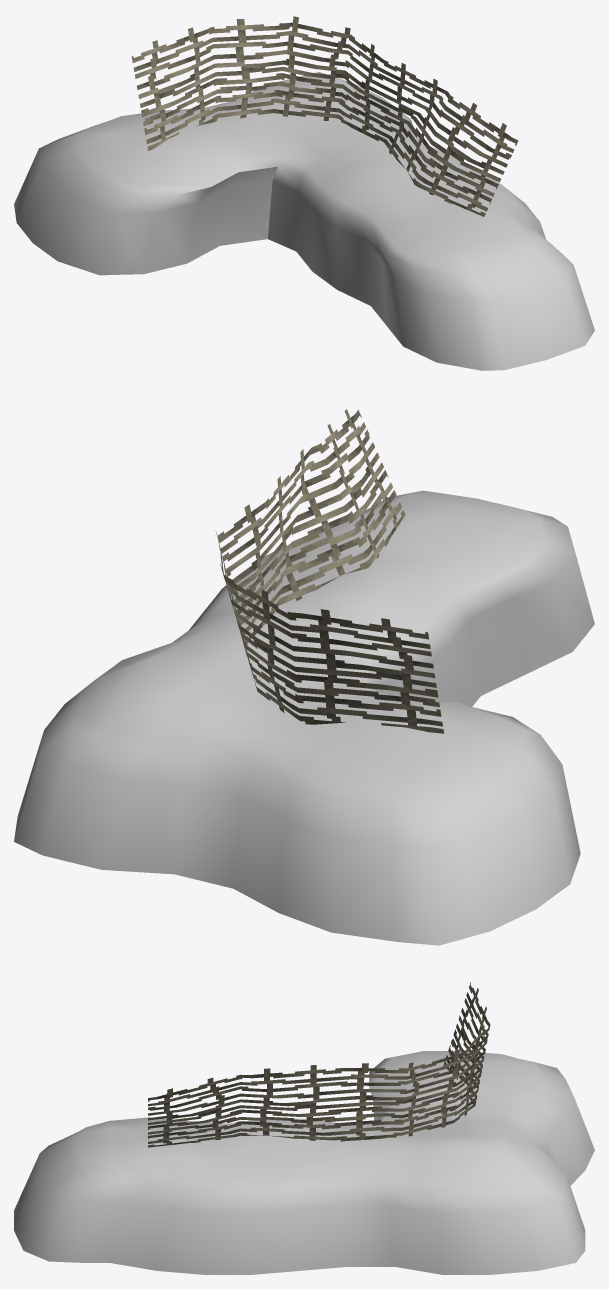
Rendered from wattle1.fbx.
3 views of the same model, one above another, from view 1: azimuth 30°, elevation 25°; view 2: azimuth 150°, elevation 25°; view 3: azimuth 270°, elevation 25° (orthographic). The views are drawn at different scales.
Visible parts, largest first — view 1: Cube.112; view 2: Cube.112; view 3: Cube.112.
Boxes of the visible parts, x1,y1,x2,y2 form: Cube.112: (14,16,594,370); Cube.112: (14,409,594,945); Cube.112: (14,982,594,1274).
Bounding box in the file's own units: 508 × 243 × 738.
